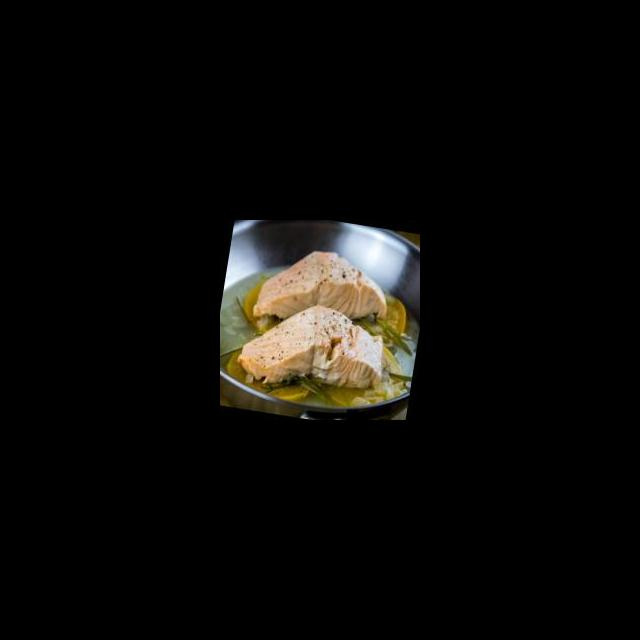ca hoi: (232, 289, 392, 404), (250, 238, 396, 342)
